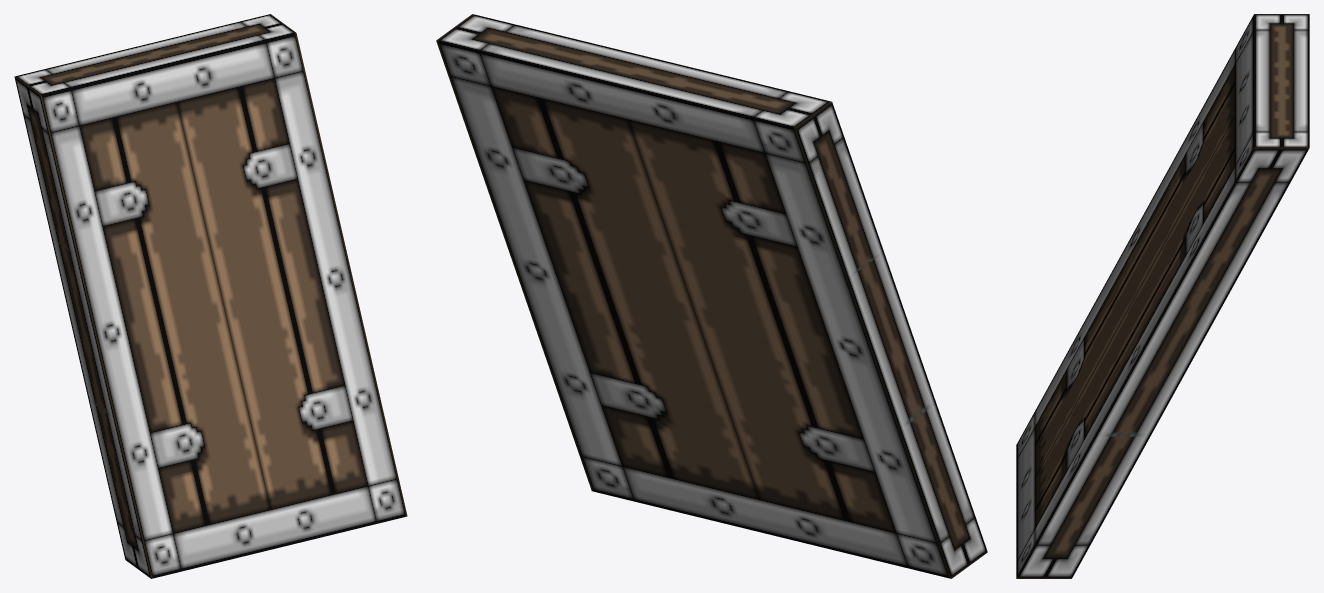
File: deco_winter_doorWood.FBX
The picture shows the model from 3 angles, left to right: view 1: azimuth 30°, elevation 25°; view 2: azimuth 150°, elevation 25°; view 3: azimuth 270°, elevation 25°; orthographic projection. The views are drawn at different scales.
Visible parts, largest first — view 1: deco_winter_doorWood; view 2: deco_winter_doorWood; view 3: deco_winter_doorWood.
Boxes of the visible parts, <box> form: deco_winter_doorWood: <box>14,14,407,578</box>; deco_winter_doorWood: <box>436,14,987,578</box>; deco_winter_doorWood: <box>1016,14,1309,578</box>.
Bounding box in the file's own units: 2 × 3 × 1.85.
Materials: 1 (1 with a texture image).
